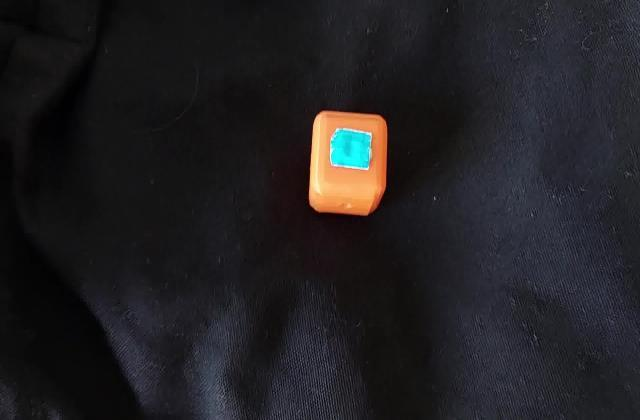blue: (336, 132, 368, 166)
sticker: (304, 106, 390, 220)
